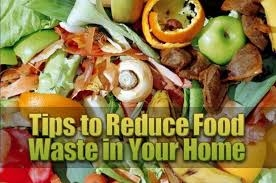kitchen_waste: (141, 1, 207, 51), (198, 13, 250, 68), (16, 90, 90, 128), (106, 58, 158, 107), (12, 27, 68, 60), (178, 80, 207, 134), (1, 68, 48, 101)
